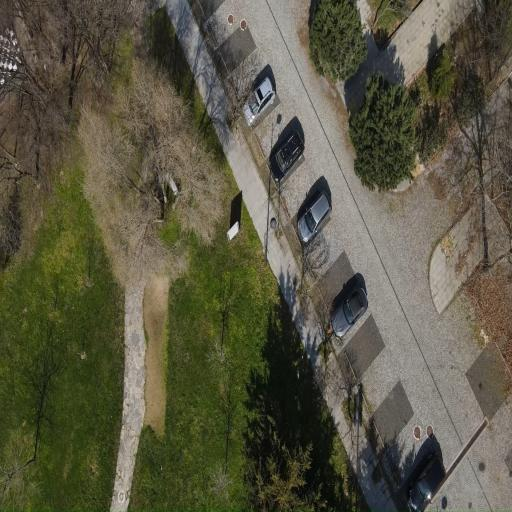car: (408, 455, 445, 511), (331, 286, 367, 337), (297, 191, 332, 243), (270, 130, 304, 183), (243, 78, 275, 126)
